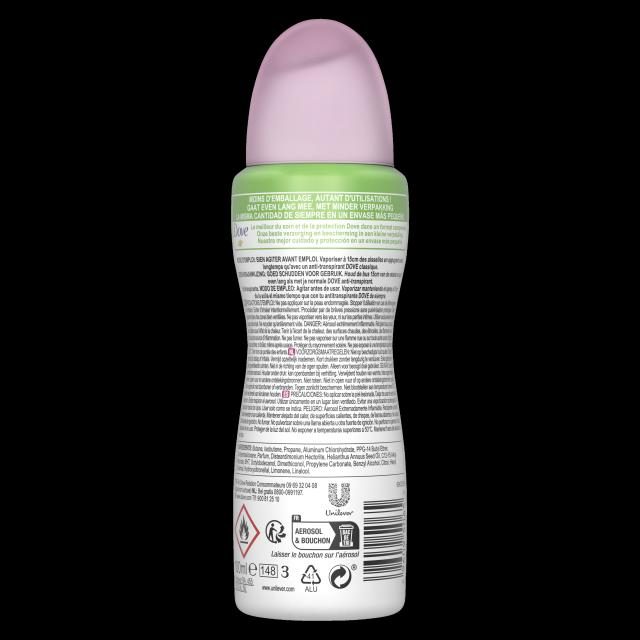GHS_Symbol_FLAME: (234, 502, 260, 558)
